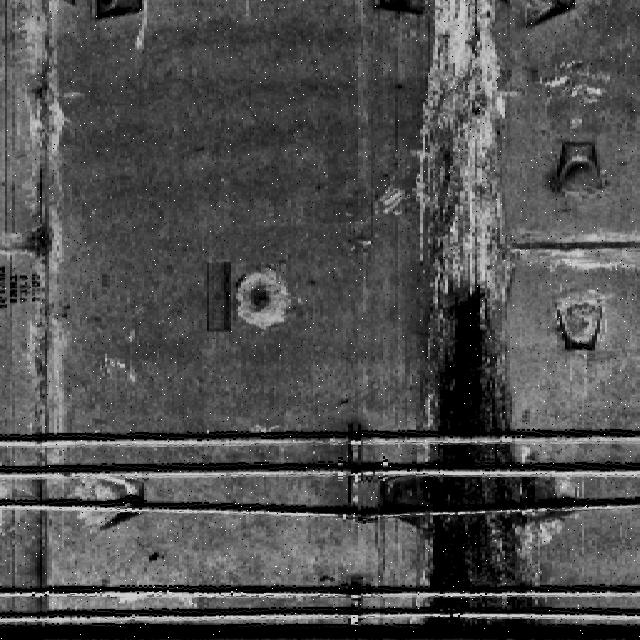leakage: (376, 0, 574, 639)
